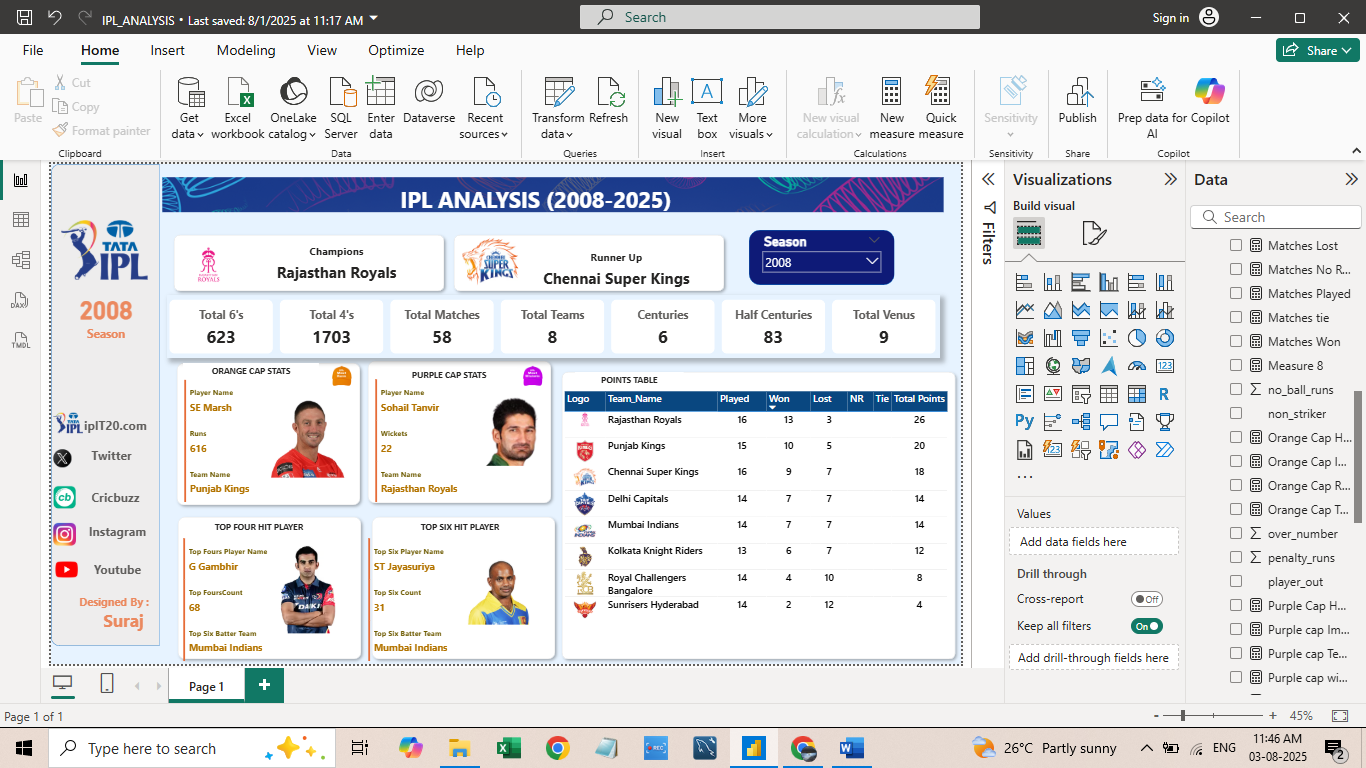

This screenshot's page, from the dashboard's own definition file:
{"tool":"powerbi","page":{"name":"Page 1","canvas":[2000,1100],"ordinal":0},"visuals":[{"type":"shape","box":[1535.4,144.4,320.2,120.7],"z":0},{"type":"shape","box":[1112.9,446.2,887.1,653.5],"z":1000},{"type":"shape","box":[266.2,426.8,424.6,334.4],"z":2000},{"type":"shape","box":[686.4,422.4,424.6,334.4],"z":3000},{"type":"shape","box":[875.6,145.2,616,145.2],"z":4000},{"type":"shape","box":[259.6,145.2,616,145.2],"z":5000},{"type":"image","box":[239.8,22,1729.2,90.2],"z":6000},{"type":"shape","box":[0,0,238.8,1060.4],"z":7000},{"type":"textbox","box":[741.4,39.6,651.2,88],"z":8000},{"type":"slicer","fields":{"Values":["ipl_matches_data.season"]},"box":[1556.4,147,280.8,118.1],"z":9000},{"type":"cardVisual","fields":{"Data":["ipl_matches_data.Season Winner"]},"box":[380.6,158.4,495,118.8],"z":10000},{"type":"cardVisual","fields":{"Data":["ipl_matches_data.Season Winner Logo"]},"box":[259.6,127.6,160.6,154],"z":11000},{"type":"cardVisual","fields":{"Data":["ipl_matches_data.Runner Up"]},"box":[996.6,171.6,495,118.8],"z":12000},{"type":"cardVisual","fields":{"Data":["ball_by_ball_data.Runnerup Logo"]},"box":[875.6,127.6,158.4,145.2],"z":13000},{"type":"cardVisual","fields":{"Data":["ball_by_ball_data.Total 6's","ball_by_ball_data.Total 4's","ball_by_ball_data.Total Matches","ball_by_ball_data.Total Teams","ball_by_ball_data.Centuries","ball_by_ball_data.Half Centuries","ball_by_ball_data.Total Venus"]},"box":[254.6,288.7,1700.8,139.1],"z":14000},{"type":"cardVisual","fields":{"Data":["ball_by_ball_data.Orange Cap Holder","ball_by_ball_data.Orange Cap Runs","ball_by_ball_data.Orange Cap Team Name"]},"box":[288.2,468.6,341,281.6],"z":15000},{"type":"textbox","box":[290.4,437.8,299.2,37.4],"z":16000},{"type":"cardVisual","fields":{"Data":["ball_by_ball_data.Orange Cap Image"]},"box":[457.6,495,250.8,200.2],"z":17000},{"type":"image","box":[589.6,437.8,101.2,57.2],"z":18000},{"type":"shape","box":[268.4,765.6,424.6,334.4],"z":19000},{"type":"shape","box":[695.2,765.6,424.6,334.4],"z":20000},{"type":"cardVisual","fields":{"Data":["ball_by_ball_data.Purple Cap Holder","ball_by_ball_data.Purple cap wicket","ball_by_ball_data.Purple cap Team"]},"box":[708.4,468.6,341,281.6],"z":21000},{"type":"textbox","box":[726,446.6,299.2,37.4],"z":22000},{"type":"cardVisual","fields":{"Data":["ball_by_ball_data.Purple cap Image"]},"box":[871.2,484,250.8,211.2],"z":23000},{"type":"image","box":[1009.8,437.8,101.2,57.2],"z":24000},{"type":"cardVisual","fields":{"Data":["ball_by_ball_data.Top Fours Player Name","ball_by_ball_data.Top FoursCount","ball_by_ball_data.Top Fours Batter Team"]},"box":[286,818.4,244.2,281.6],"z":25000},{"type":"textbox","box":[308,781,299.2,37.4],"z":26000},{"type":"cardVisual","fields":{"Data":["ball_by_ball_data.Top Fours Player Image"]},"box":[442.2,809.6,250.8,246.4],"z":27000},{"type":"cardVisual","fields":{"Data":["ball_by_ball_data.Top Six Player Name","ball_by_ball_data.Top Six Count","ball_by_ball_data.Top Six Batter Team"]},"box":[693,818.4,244.2,281.6],"z":28000},{"type":"textbox","box":[750.2,781,299.2,37.4],"z":29000},{"type":"cardVisual","fields":{"Data":["ball_by_ball_data.Top Six Player Image"]},"box":[860.2,818.4,250.8,246.4],"z":30000},{"type":"tableEx","fields":{"Values":["teams_data.image_url","teams_data.team_name","ball_by_ball_data.Matches Played","ball_by_ball_data.Matches Won","ball_by_ball_data.Matches Lost","ball_by_ball_data.Matches No Result","ball_by_ball_data.Matches tie","ball_by_ball_data.Total Points"]},"box":[1123.4,496.1,876.6,593.2],"z":31000},{"type":"textbox","box":[1152.2,456.7,238.8,39.4],"z":32000},{"type":"image","box":[0,519.7,75,100],"z":33000},{"type":"card","fields":{"Values":["ball_by_ball_data.Season"]},"box":[47.2,265.1,149.6,136.5],"z":34000},{"type":"actionButton","box":[47.2,530.2,191.6,89.2],"z":35000},{"type":"image","box":[18.4,39.4,200,299.2],"z":36000},{"type":"image","box":[0,608.9,50,76.1],"z":37000},{"type":"actionButton","box":[36.7,595.8,191.6,89.2],"z":38000},{"type":"image","box":[0,695.5,60,75],"z":39000},{"type":"actionButton","box":[47.2,687.7,191.6,89.2],"z":40000},{"type":"image","box":[0,776.9,60.4,76.1],"z":41000},{"type":"actionButton","box":[49.9,763.8,191.6,89.2],"z":42000},{"type":"image","box":[5.2,853,60.4,76.1],"z":43000},{"type":"actionButton","box":[49.9,847.8,191.6,89.2],"z":44000},{"type":"textbox","box":[57.7,942.3,168,126],"z":45000}]}

Visuals, with their boxes on the page's 2000x1100 design canvas (x1, y1, x2, y2). These are canvas units, not pixel positions in the 1366x768 screenshot, which may show the page scaled, cropped or inside an application window:
shape: select_region(1535, 144, 1856, 265)
shape: select_region(1113, 446, 2000, 1100)
shape: select_region(266, 427, 691, 761)
shape: select_region(686, 422, 1111, 757)
shape: select_region(876, 145, 1492, 290)
shape: select_region(260, 145, 876, 290)
image: select_region(240, 22, 1969, 112)
shape: select_region(0, 0, 239, 1060)
textbox: select_region(741, 40, 1393, 128)
slicer - ipl_matches_data.season: select_region(1556, 147, 1837, 265)
cardVisual - ipl_matches_data.Season Winner: select_region(381, 158, 876, 277)
cardVisual - ipl_matches_data.Season Winner Logo: select_region(260, 128, 420, 282)
cardVisual - ipl_matches_data.Runner Up: select_region(997, 172, 1492, 290)
cardVisual - ball_by_ball_data.Runnerup Logo: select_region(876, 128, 1034, 273)
cardVisual - ball_by_ball_data.Total 6's x ball_by_ball_data.Total 4's: select_region(255, 289, 1955, 428)
cardVisual - ball_by_ball_data.Orange Cap Holder x ball_by_ball_data.Orange Cap Runs: select_region(288, 469, 629, 750)
textbox: select_region(290, 438, 590, 475)
cardVisual - ball_by_ball_data.Orange Cap Image: select_region(458, 495, 708, 695)
image: select_region(590, 438, 691, 495)
shape: select_region(268, 766, 693, 1100)
shape: select_region(695, 766, 1120, 1100)
cardVisual - ball_by_ball_data.Purple Cap Holder x ball_by_ball_data.Purple cap wicket: select_region(708, 469, 1049, 750)
textbox: select_region(726, 447, 1025, 484)
cardVisual - ball_by_ball_data.Purple cap Image: select_region(871, 484, 1122, 695)
image: select_region(1010, 438, 1111, 495)
cardVisual - ball_by_ball_data.Top Fours Player Name x ball_by_ball_data.Top FoursCount: select_region(286, 818, 530, 1100)
textbox: select_region(308, 781, 607, 818)
cardVisual - ball_by_ball_data.Top Fours Player Image: select_region(442, 810, 693, 1056)
cardVisual - ball_by_ball_data.Top Six Player Name x ball_by_ball_data.Top Six Count: select_region(693, 818, 937, 1100)
textbox: select_region(750, 781, 1049, 818)
cardVisual - ball_by_ball_data.Top Six Player Image: select_region(860, 818, 1111, 1065)
tableEx - teams_data.image_url x teams_data.team_name: select_region(1123, 496, 2000, 1089)
textbox: select_region(1152, 457, 1391, 496)
image: select_region(0, 520, 75, 620)
card - ball_by_ball_data.Season: select_region(47, 265, 197, 402)
actionButton: select_region(47, 530, 239, 619)
image: select_region(18, 39, 218, 339)
image: select_region(0, 609, 50, 685)
actionButton: select_region(37, 596, 228, 685)
image: select_region(0, 696, 60, 770)
actionButton: select_region(47, 688, 239, 777)
image: select_region(0, 777, 60, 853)
actionButton: select_region(50, 764, 242, 853)
image: select_region(5, 853, 66, 929)
actionButton: select_region(50, 848, 242, 937)
textbox: select_region(58, 942, 226, 1068)
